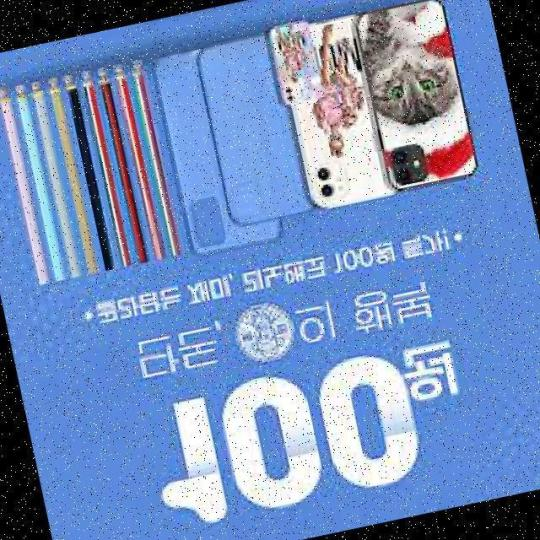phone: (278, 21, 418, 212), (354, 0, 486, 188)
